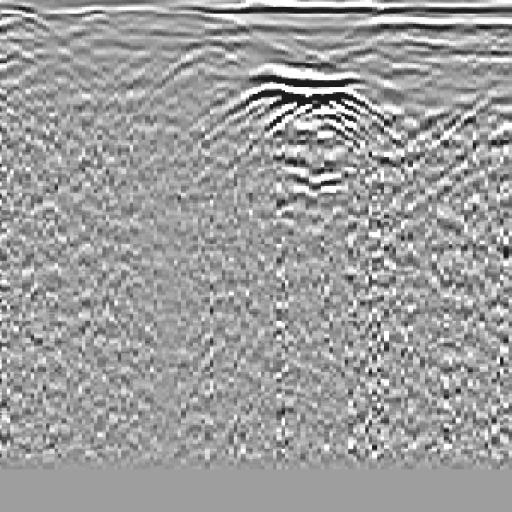metalic: (201, 64, 413, 194)
